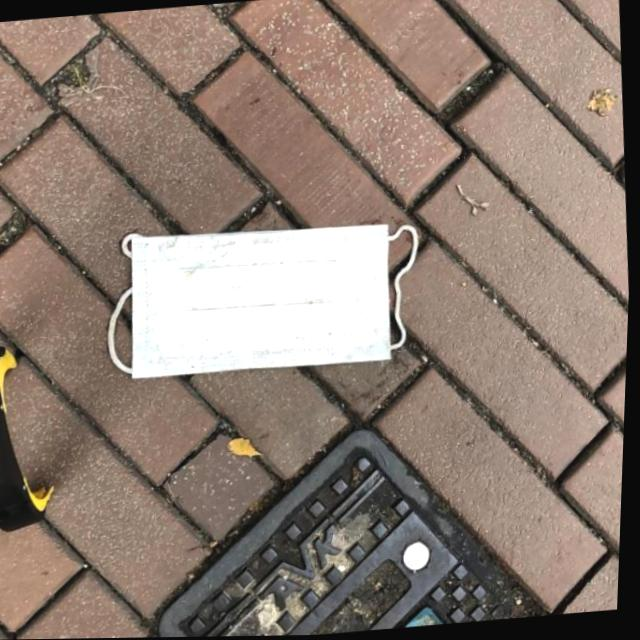Mask: (98, 206, 430, 388)
